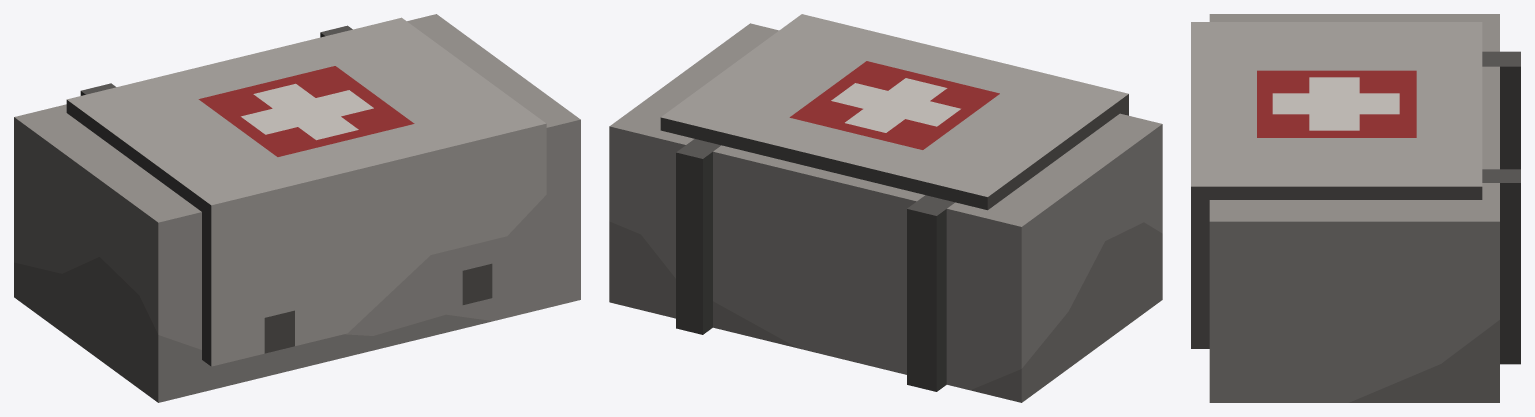
File: AI_Item_MedKit.fbx
The picture shows the model from 3 angles, left to right: view 1: azimuth 30°, elevation 25°; view 2: azimuth 150°, elevation 25°; view 3: azimuth 270°, elevation 25°; orthographic projection. The views are drawn at different scales.
Visible parts, largest first — view 1: AI_Item_MedKit; view 2: AI_Item_MedKit; view 3: AI_Item_MedKit.
Part boxes in pixels (x1,y1,x2,y2): AI_Item_MedKit: (14,14,580,402); AI_Item_MedKit: (609,14,1162,402); AI_Item_MedKit: (1191,14,1520,402).
Size of the model in its own units: 0.9535 by 0.4179 by 0.6406.
